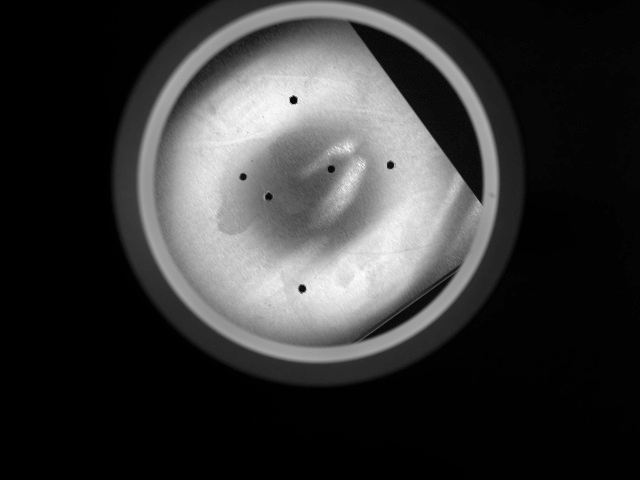zhen_kong: (227, 158, 259, 188), (250, 188, 286, 212), (276, 87, 309, 112), (317, 158, 343, 179), (292, 279, 313, 299), (380, 155, 399, 174)
